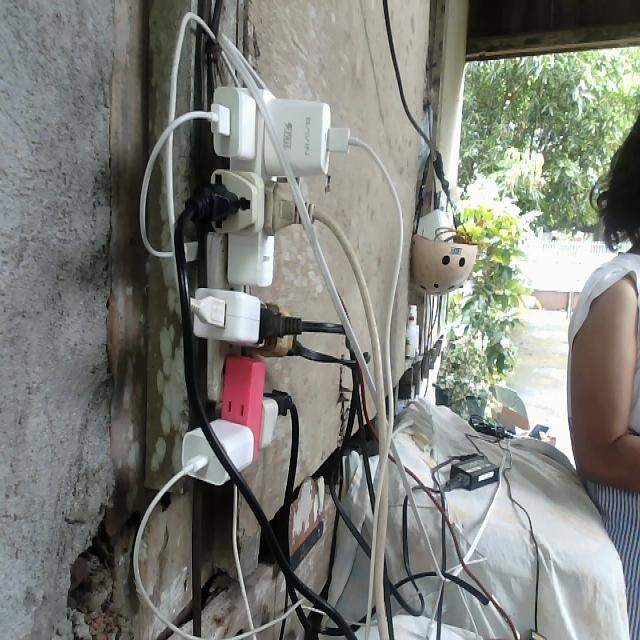-: (166, 67, 349, 485)
